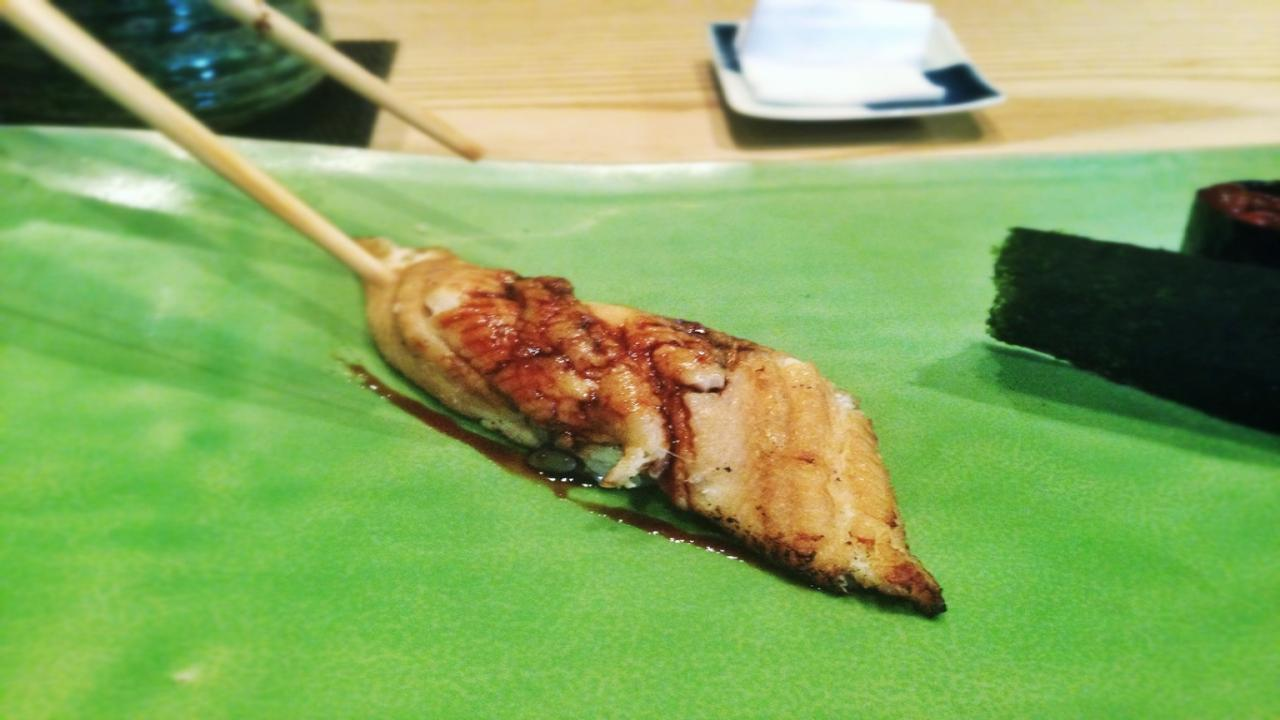chopstick: (0, 0, 486, 295)
